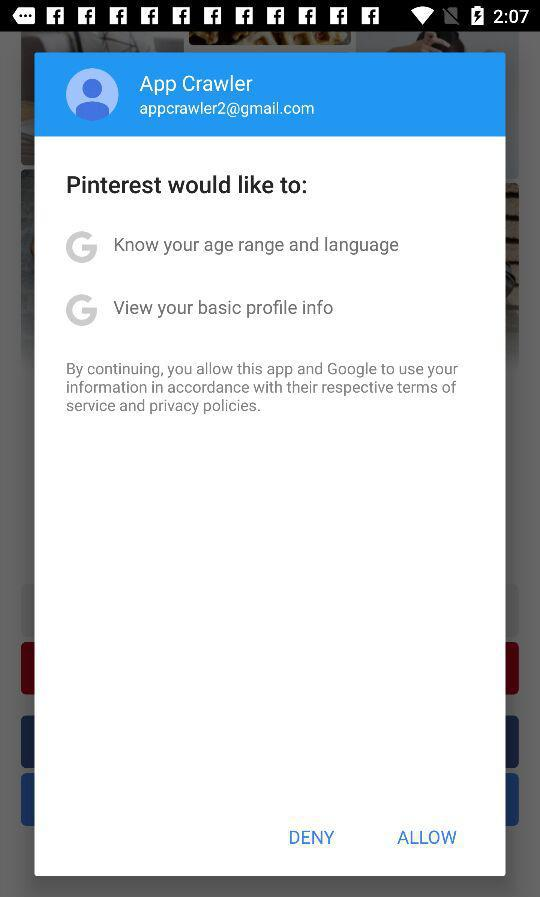Icon: (66, 68, 120, 122)
Modal: (35, 53, 506, 877)
Text: (66, 361, 459, 416), (114, 236, 400, 257), (66, 174, 309, 196), (113, 299, 334, 320), (140, 102, 316, 120), (139, 75, 254, 97), (66, 231, 99, 265), (66, 294, 99, 327), (396, 830, 457, 846), (289, 829, 335, 845)
UpperTaskBar: (1, 1, 540, 33)
